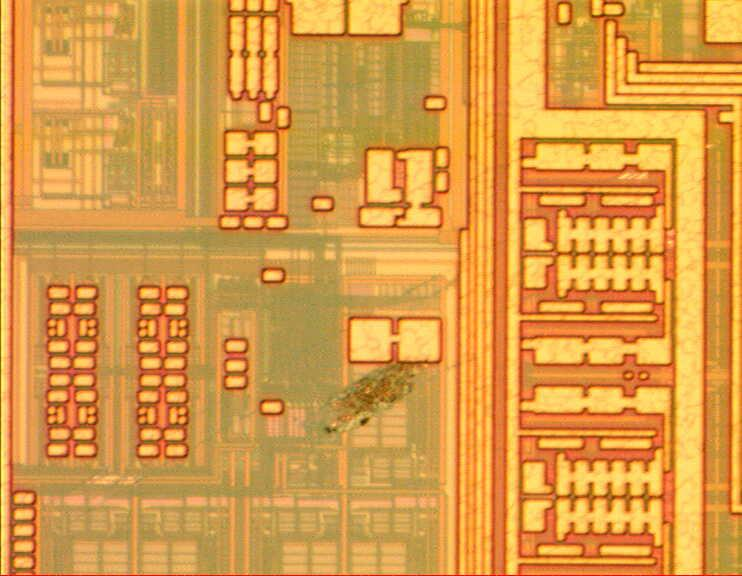SCRATCH: (30, 256, 509, 525)
